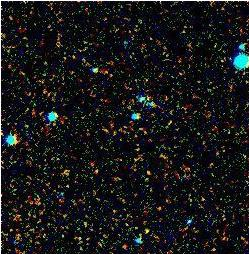star: (129, 216, 159, 246)
